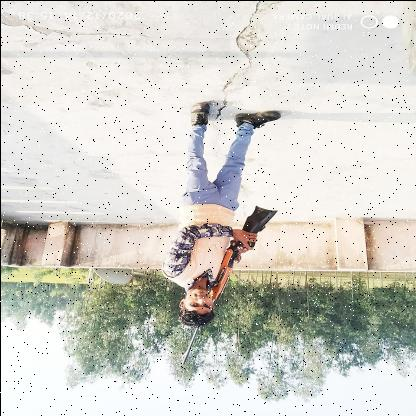rifle: (175, 203, 279, 367)
